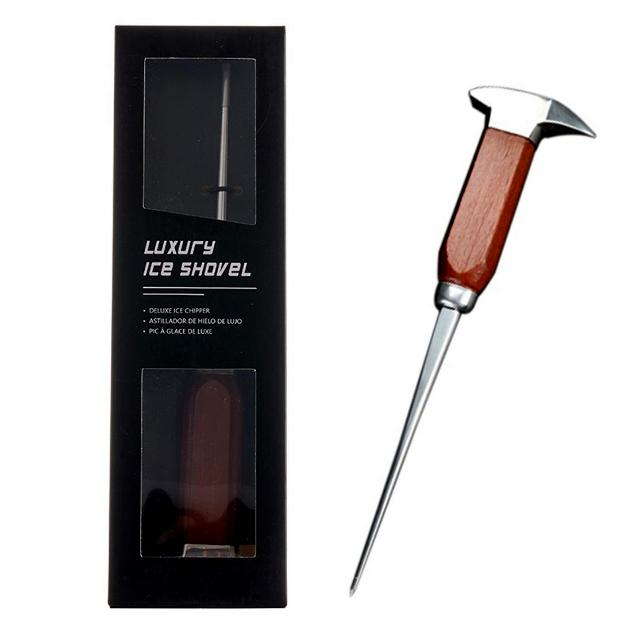ice pick: (348, 85, 600, 600), (175, 58, 239, 558)
